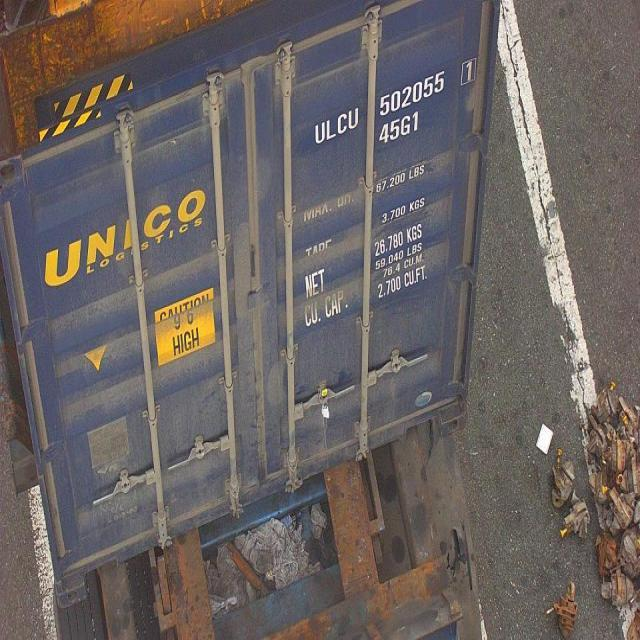ISO: (378, 112, 422, 148)
container_number: (312, 54, 476, 142)
